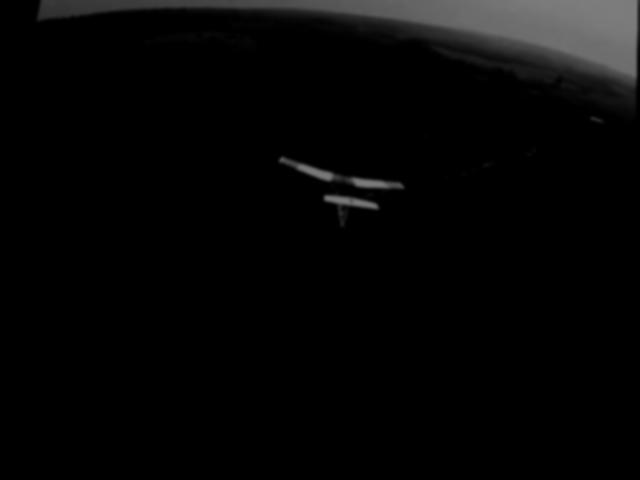hedef: (259, 136, 427, 264)
